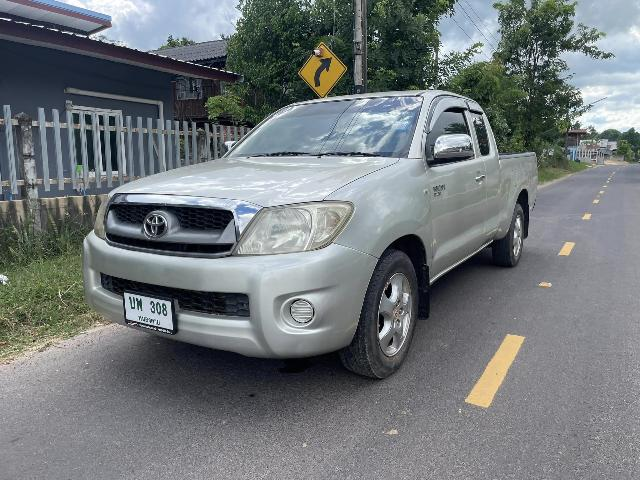pickup-truck: (62, 81, 551, 403)
